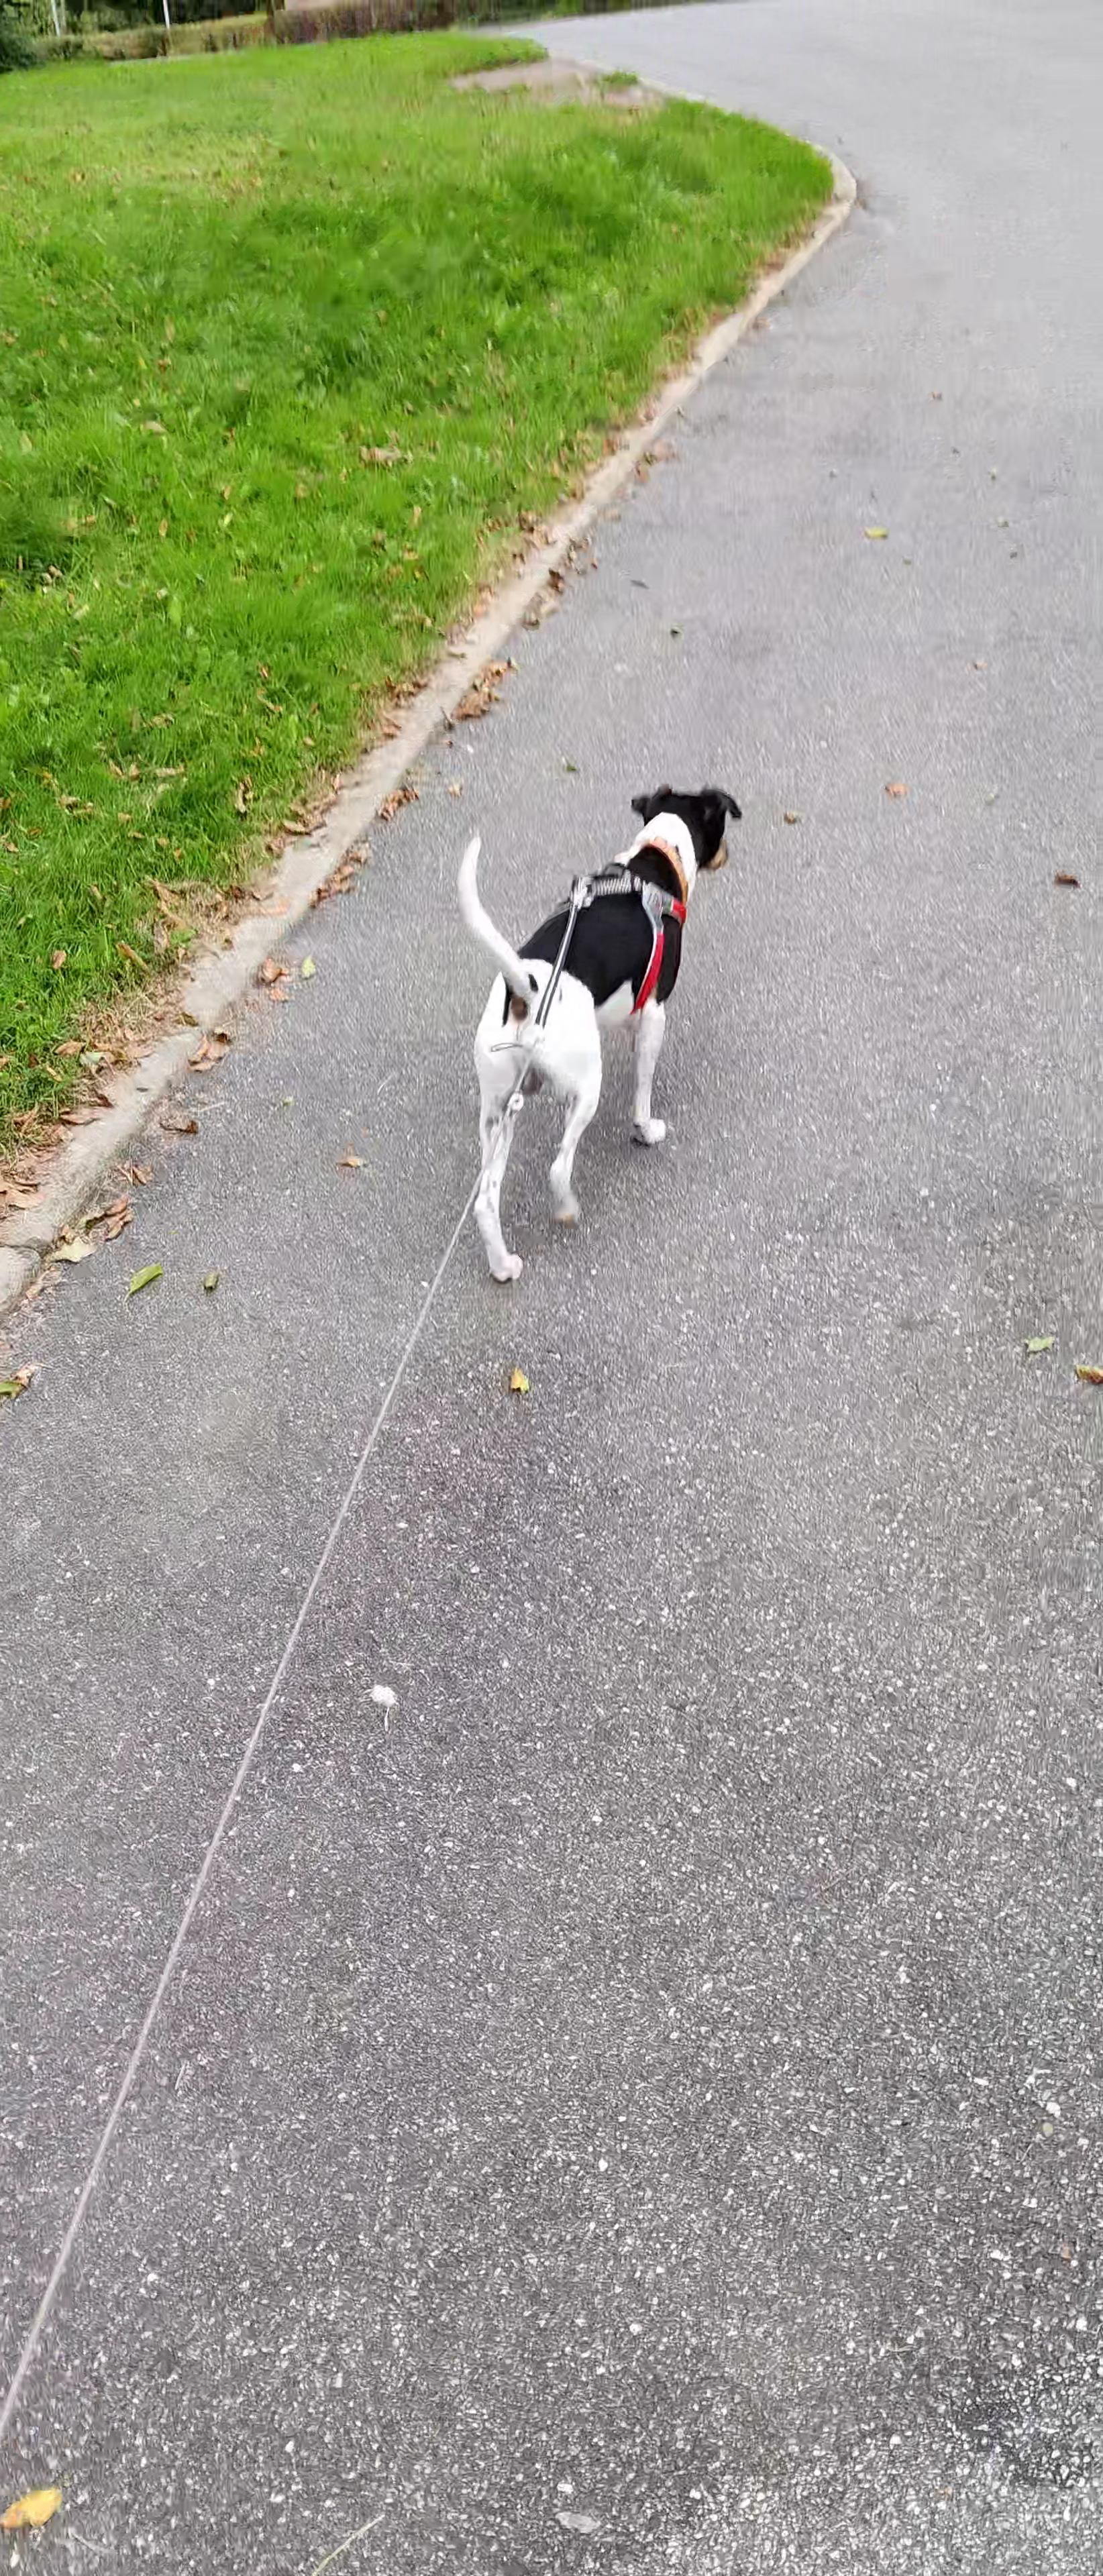Dog: (445, 779, 750, 1295)
